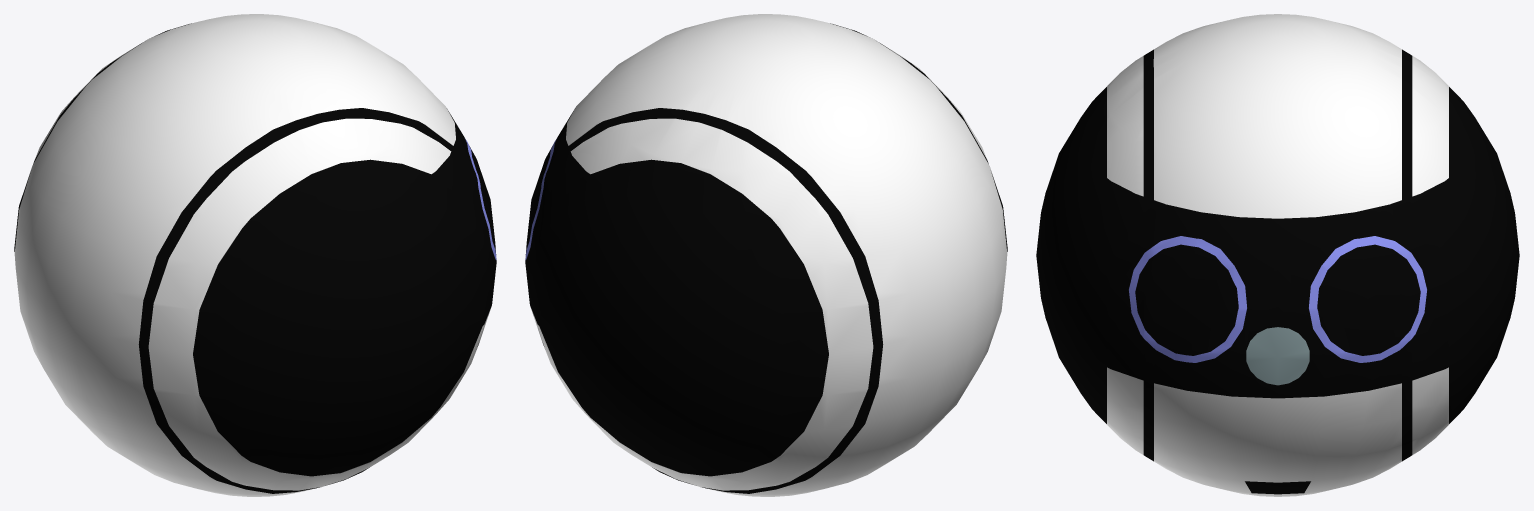
Rendered from int-ball2.dae.
3 renders of one model, left to right at view 1: azimuth 30°, elevation 25°; view 2: azimuth 150°, elevation 25°; view 3: azimuth 270°, elevation 25°, orthographic.
Visible parts, largest first — view 1: Sphere001; view 2: Sphere001; view 3: Sphere001.
Boxes of the visible parts, x1,y1,x2,y2 form: Sphere001: [14, 14, 496, 496]; Sphere001: [525, 14, 1007, 496]; Sphere001: [1036, 14, 1519, 496].
Size of the model in its own units: 0.2 by 0.2 by 0.2.
